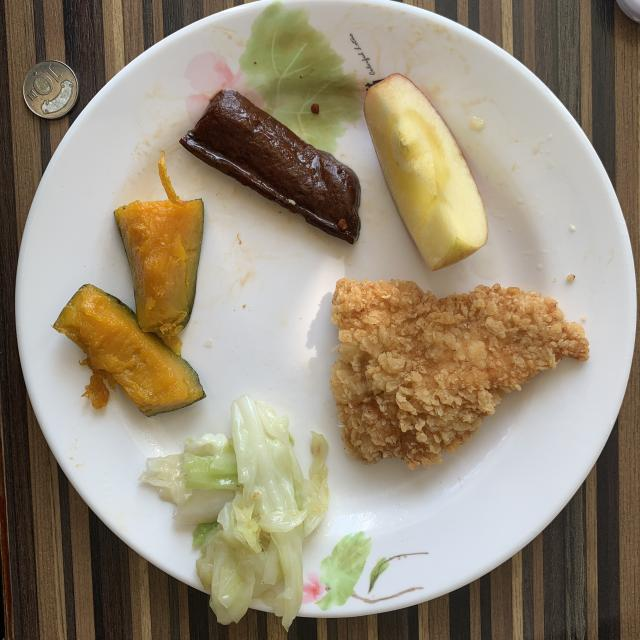apple -sliced-: (364, 74, 488, 270)
cabbage: (140, 395, 329, 629)
coin: (22, 60, 79, 119)
firm tofu: (180, 89, 361, 244)
fried chicken cutlet: (330, 279, 589, 469)
pumpkin: (54, 155, 205, 416)
